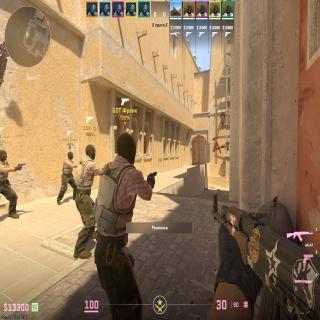T-Body: (97, 132, 144, 320), (76, 144, 97, 258), (0, 150, 10, 217), (63, 151, 76, 201)
T-Head: (117, 133, 136, 165), (85, 144, 96, 160), (0, 149, 7, 161), (68, 152, 73, 160)
